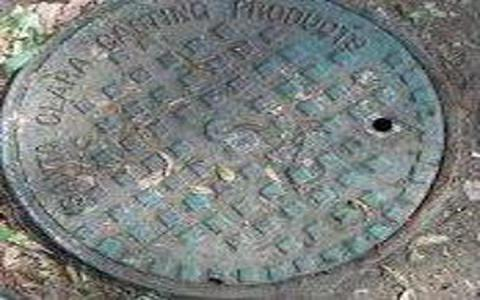proper manhole: (1, 1, 445, 283)
